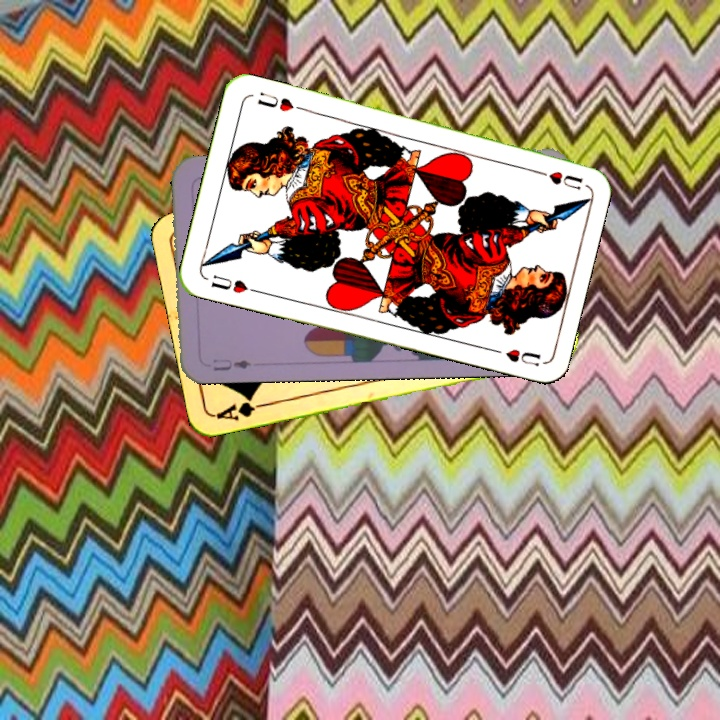EU: (209, 354, 254, 374)
GA: (212, 392, 271, 423)
HU: (528, 165, 586, 192), (206, 271, 261, 296)
